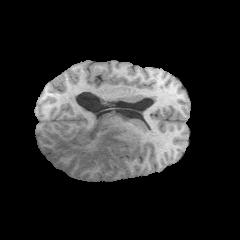glioma: (44, 110, 141, 173)
